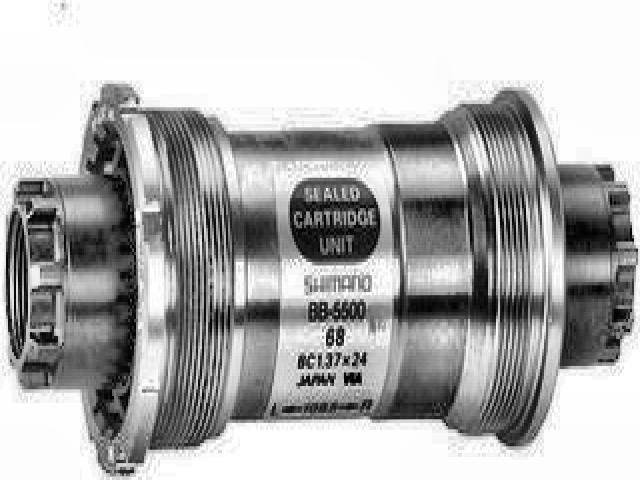bottom_bracket: (3, 74, 638, 479)
